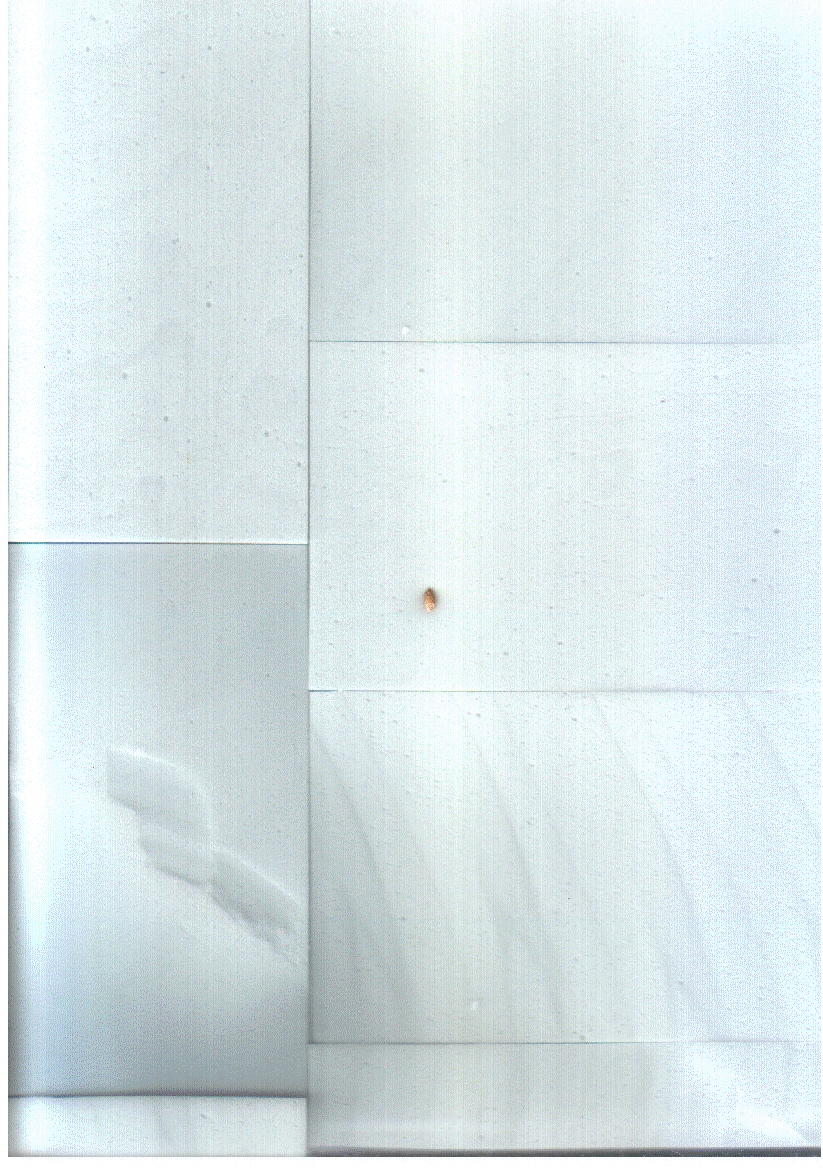grains: (412, 567, 451, 626)
